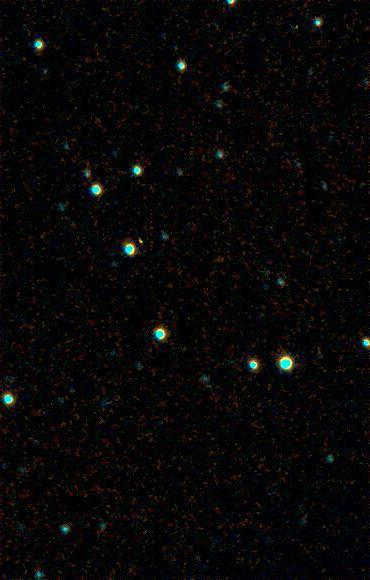star: (125, 231, 155, 261)
